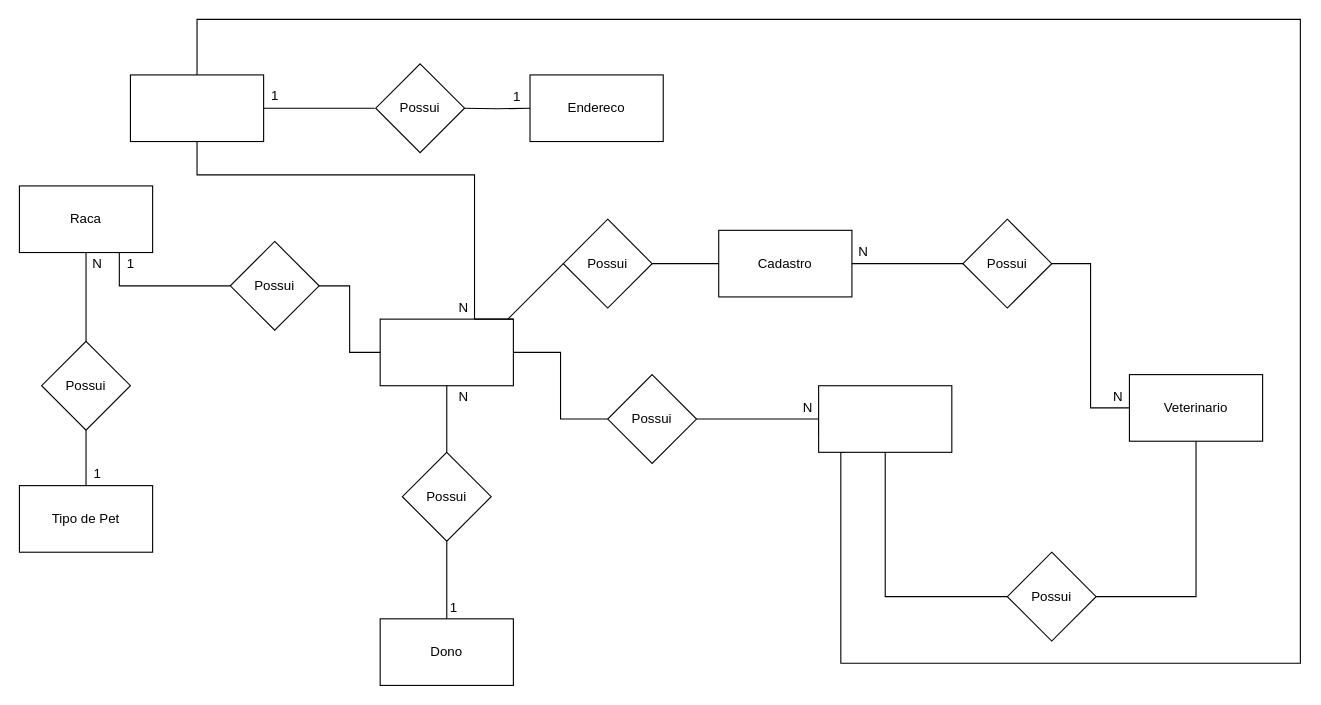
The diagram is 1321 pixels wide and 705 high, and some of its shapes have lost their labels. Each missing label, with the box of its shape:
Atendimento: (818, 385, 952, 452)
Clinica: (129, 74, 264, 142)
Pet: (379, 318, 513, 386)
